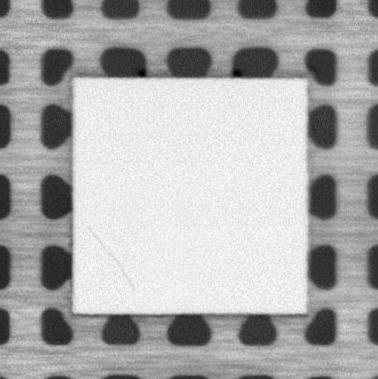DIE_CRACK: (86, 226, 135, 288)
